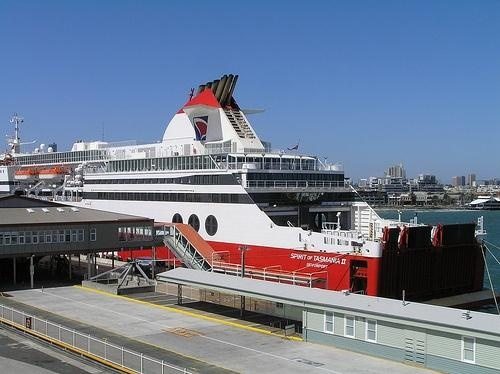boat: (1, 72, 497, 310)
